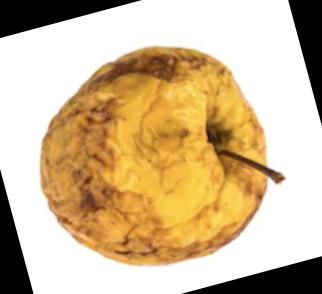Apple: (36, 45, 271, 269)
